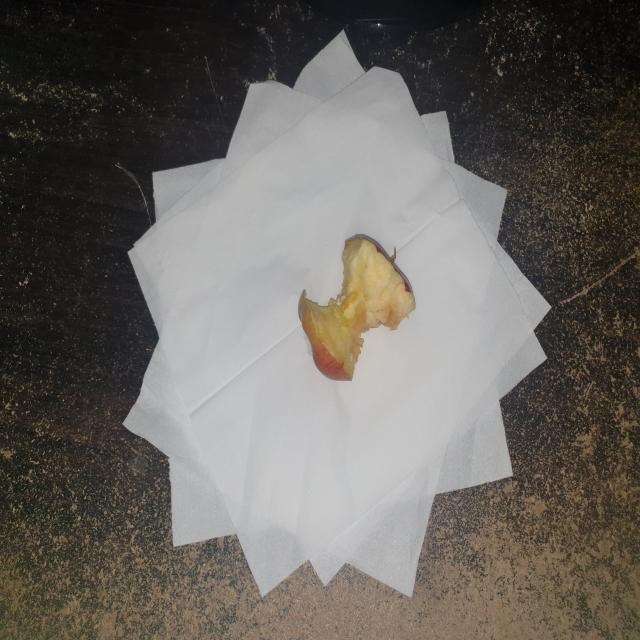apple: (294, 224, 424, 391)
